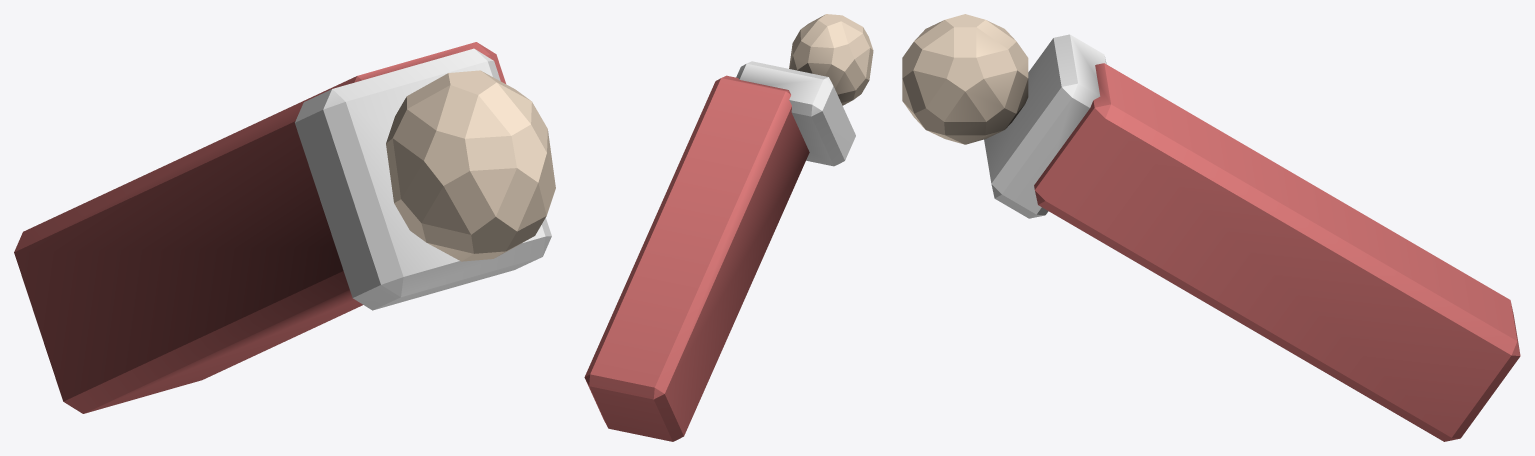
The model's file is ViewArm.fbx.
3 views of the same model, side by side, from view 1: azimuth 30°, elevation 25°; view 2: azimuth 150°, elevation 25°; view 3: azimuth 270°, elevation 25° (orthographic). The views are drawn at different scales.
Parts seen in each view (by area): view 1: Body; view 2: Body; view 3: Body.
Boxes of the visible parts, x1=… form: Body: x1=14, y1=42, x2=555, y2=413; Body: x1=584, y1=14, x2=873, y2=441; Body: x1=902, y1=14, x2=1520, y2=441.
Bounding box in the file's own units: 0.179 × 0.4638 × 0.6602.
